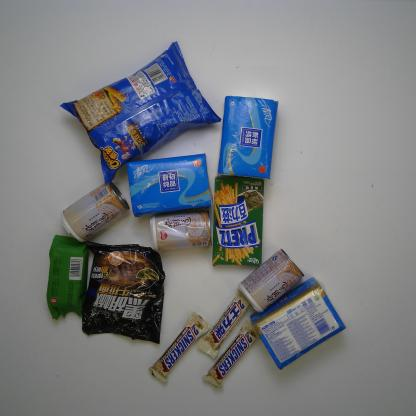Canned Food: (235, 245, 308, 316), (58, 178, 132, 245), (147, 206, 215, 254)
Chocolate: (146, 304, 211, 386), (199, 317, 262, 390), (196, 284, 253, 361)
Dessert: (208, 173, 265, 268), (44, 232, 93, 324)
Instant Noodles: (79, 238, 167, 346)
Puffed Food: (57, 36, 223, 187)
Tissue: (246, 272, 348, 372), (123, 151, 216, 219), (215, 91, 281, 182)
